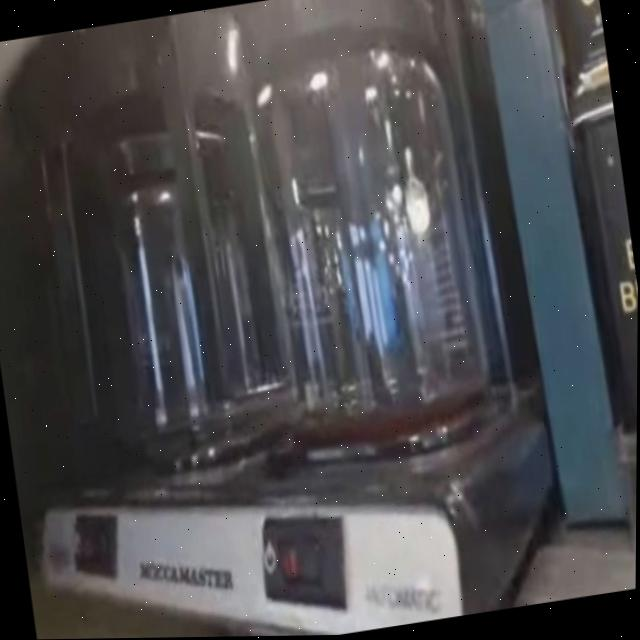nocoffee: (227, 81, 496, 452), (96, 175, 263, 464)
